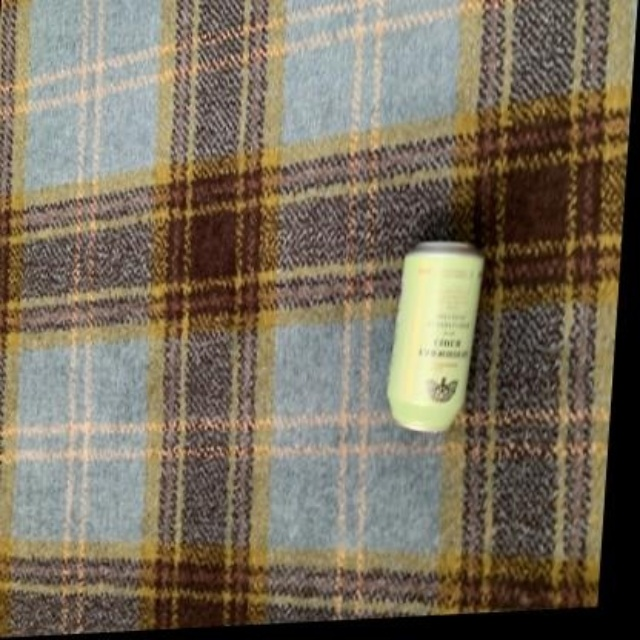trash: (388, 242, 482, 431)
